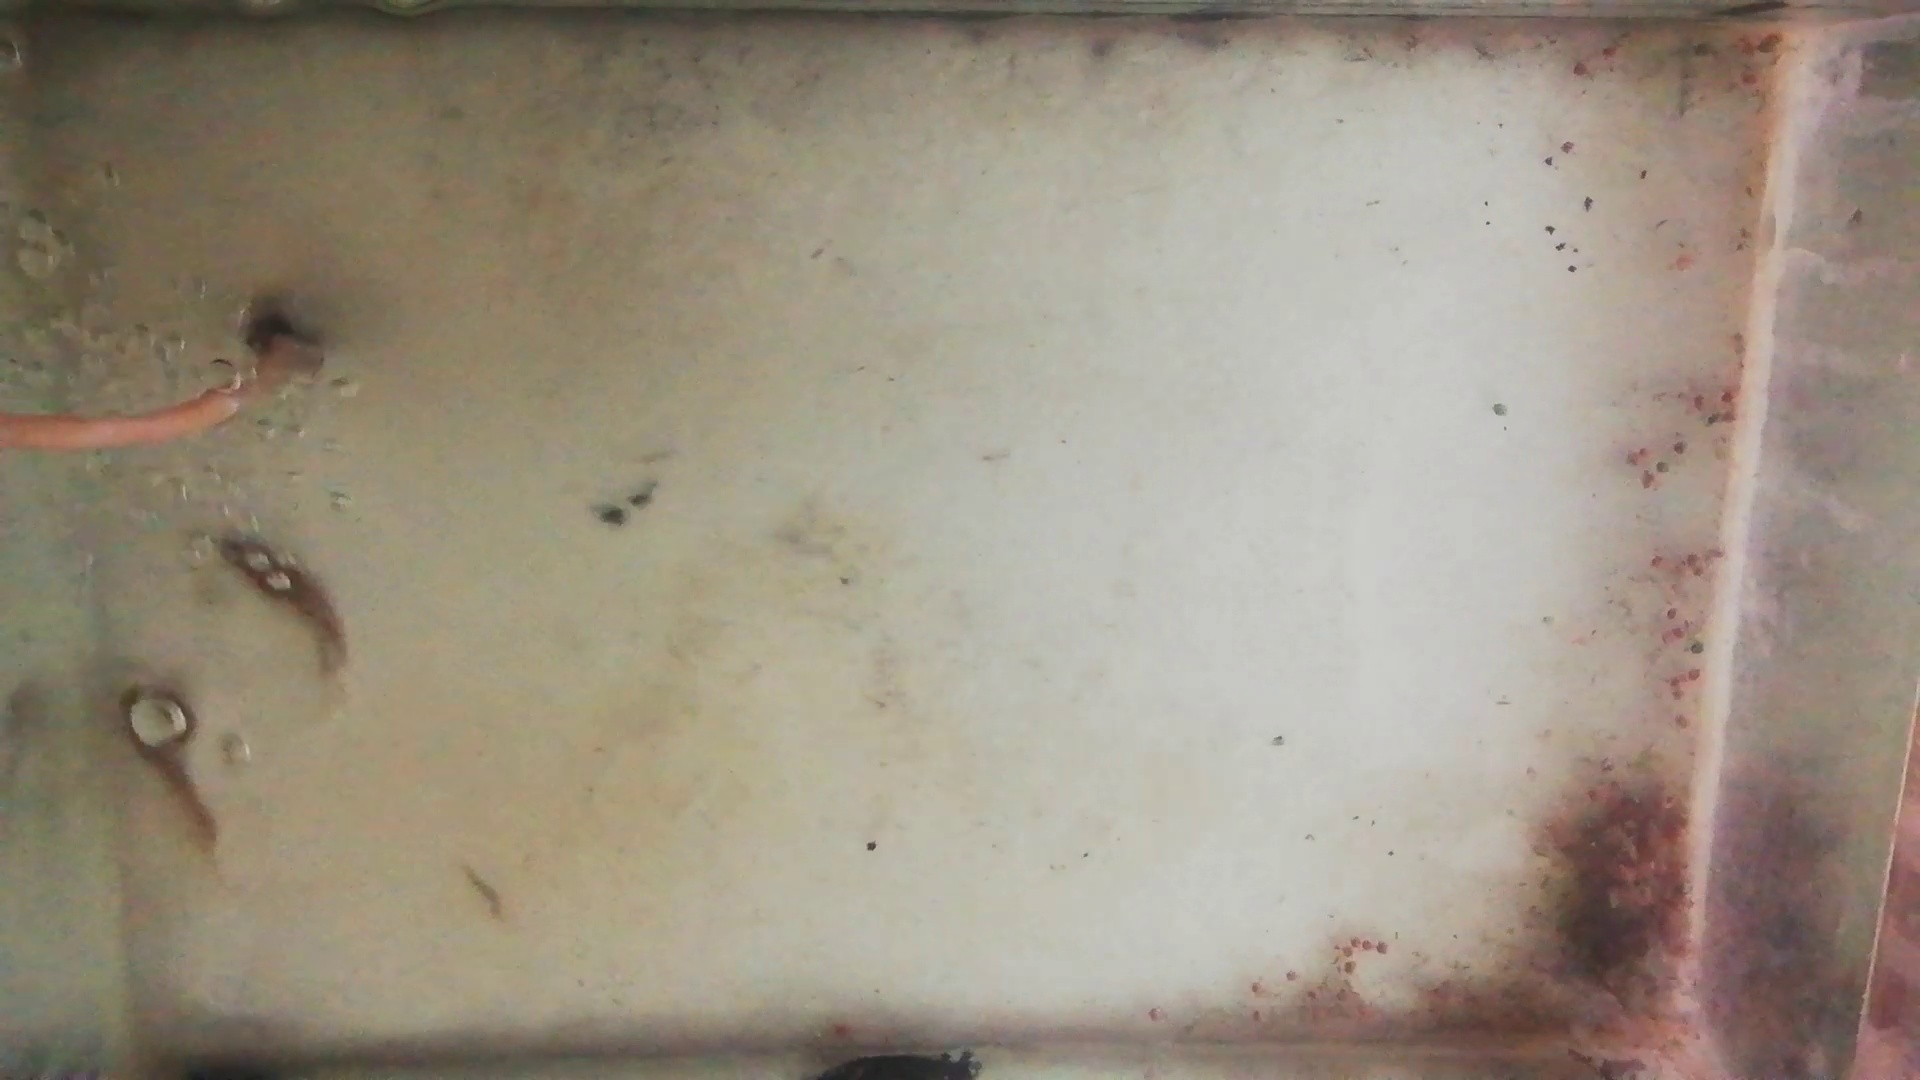fish: (214, 527, 349, 676), (113, 673, 222, 836)
